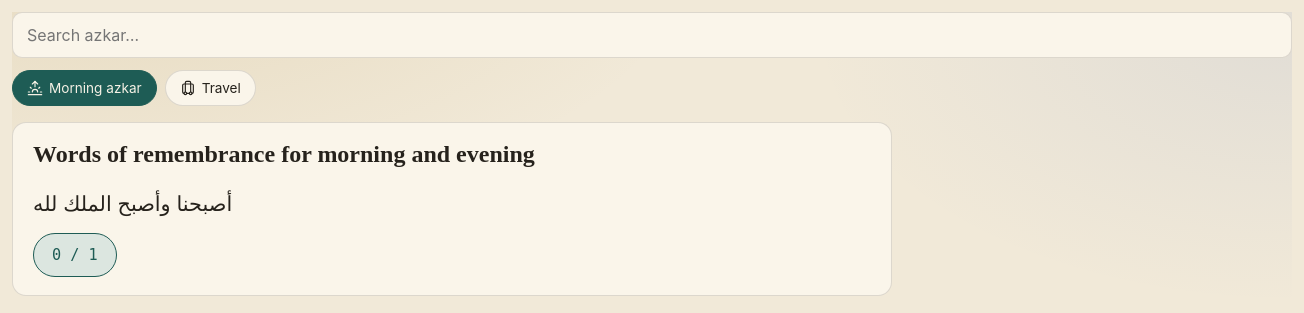
Test: AzkarBrowser — today's progress › marks finished categories inside a section list
The image size is (1304, 313).
Click the tab "Travel": click(210, 88) 165,70 -> 256,106
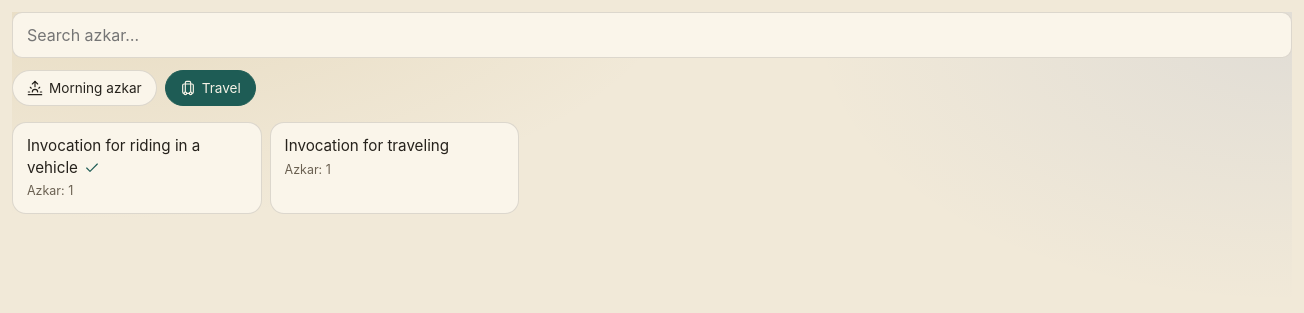
Check: the 3rd icon is shown, box 84,160 -> 100,176
